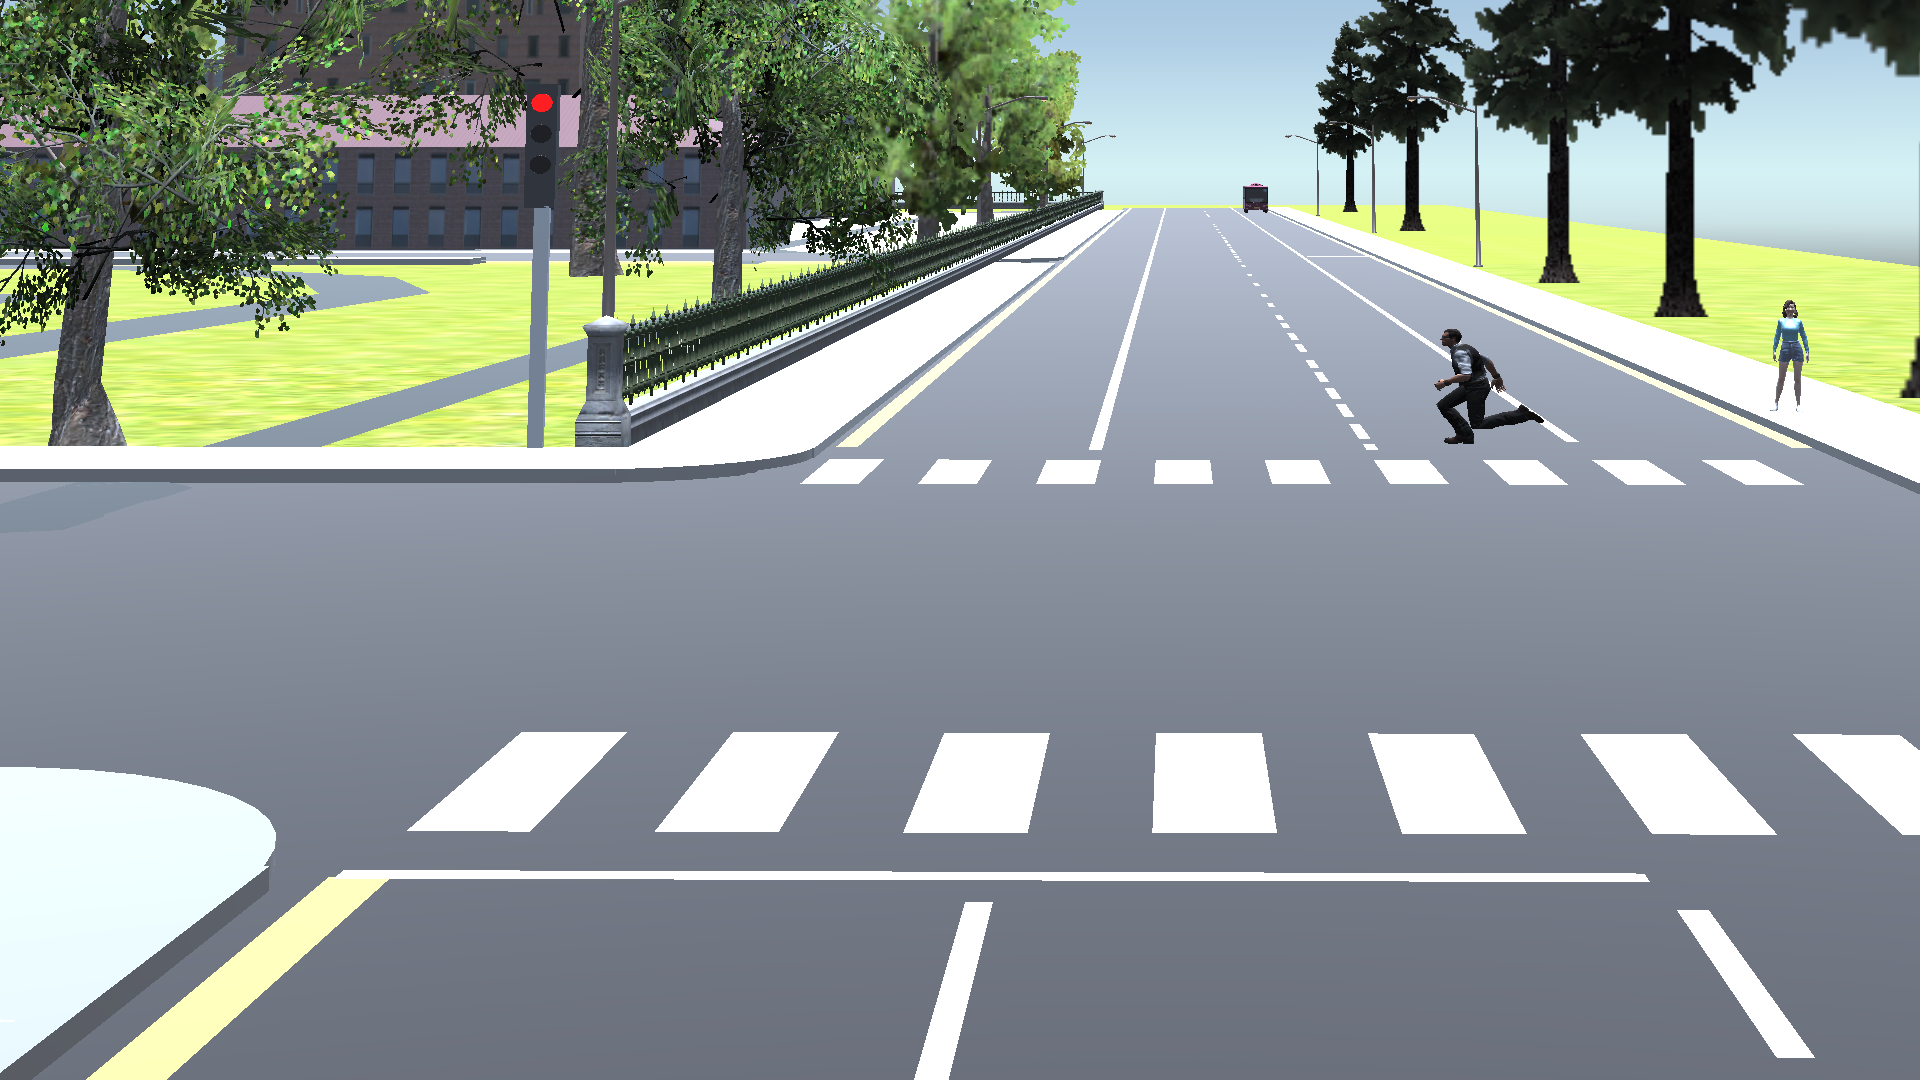pedestrian: (1430, 325, 1550, 446), (1765, 292, 1821, 416)
